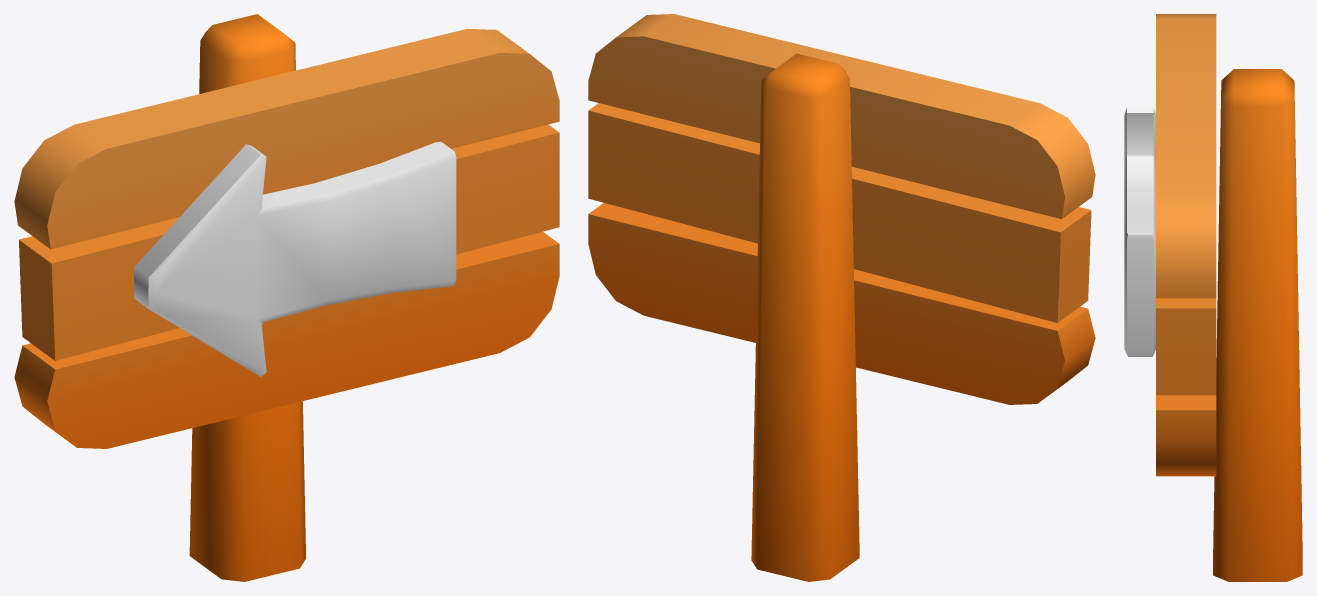
Rendered from Props_Wooden_Sign_02.glb.
3 renders of one model, left to right at view 1: azimuth 30°, elevation 25°; view 2: azimuth 150°, elevation 25°; view 3: azimuth 270°, elevation 25°, orthographic. The views are drawn at different scales.
Parts seen in each view (by area): view 1: Props_Wooden_Sign_02; view 2: Props_Wooden_Sign_02; view 3: Props_Wooden_Sign_02.
Part boxes in pixels (x1,y1,x2,y2): Props_Wooden_Sign_02: (14,14,559,581); Props_Wooden_Sign_02: (588,14,1095,581); Props_Wooden_Sign_02: (1124,14,1302,581).
Size of the model in its own units: 0.9011 by 0.888 by 0.2965.
Materials: 1 (1 with a texture image).
